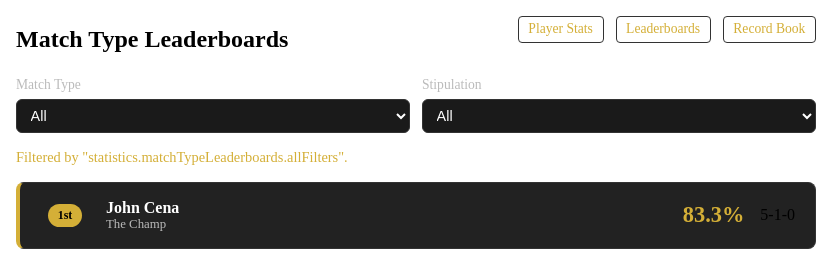
Test case: MatchTypeLeaderboards › requests filtered leaderboard when selecting a match type
Select "Tag Team" in the dropdown labelled "Match Type": (213, 116) [16,98,410,133]
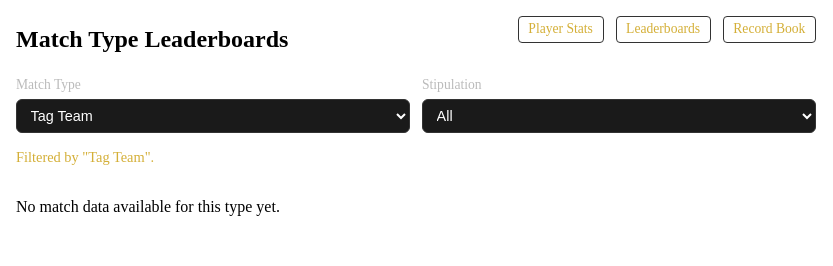
Expected: the text "No match data available for this type yet." is shown, [16,198,280,215]
